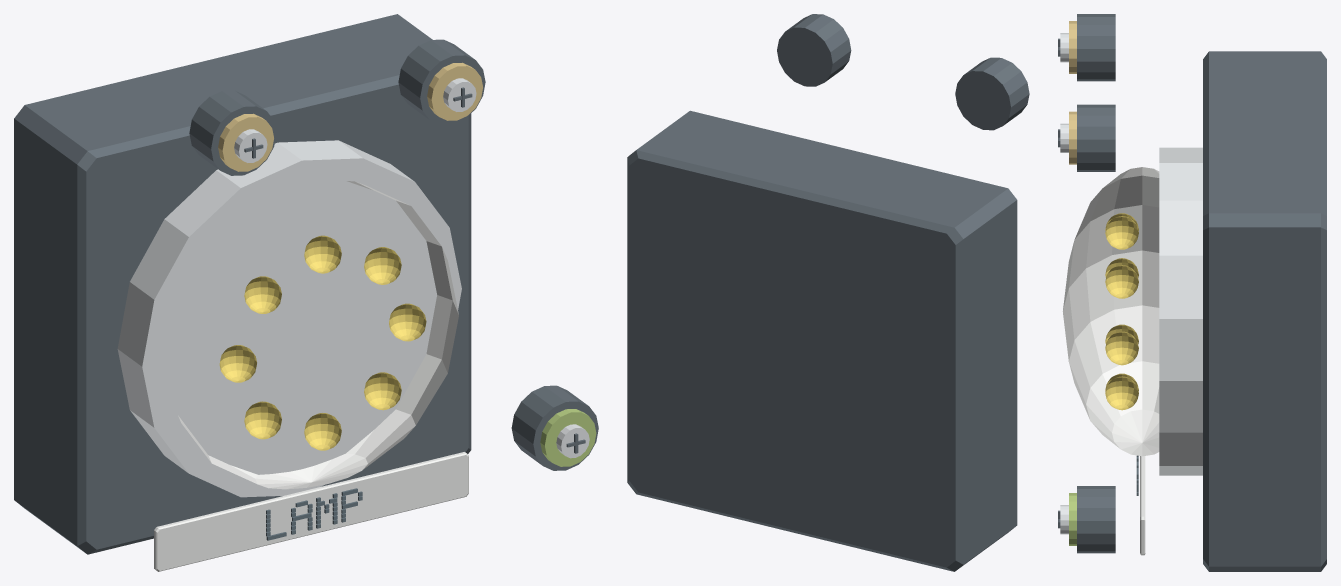
The model's file is ledLamp.glb.
3 renders of one model, left to right at view 1: azimuth 30°, elevation 25°; view 2: azimuth 150°, elevation 25°; view 3: azimuth 270°, elevation 25°, orthographic. The views are drawn at different scales.
Parts seen in each view (by area): view 1: ledLamp-preview; view 2: ledLamp-preview; view 3: ledLamp-preview.
Part boxes in pixels (box(x1,y1,x2,y2)): ledLamp-preview: box(14, 14, 598, 571); ledLamp-preview: box(627, 14, 1029, 571); ledLamp-preview: box(1058, 14, 1326, 571).
Bounding box in the file's own units: 2.14 × 2.2 × 1.25.
